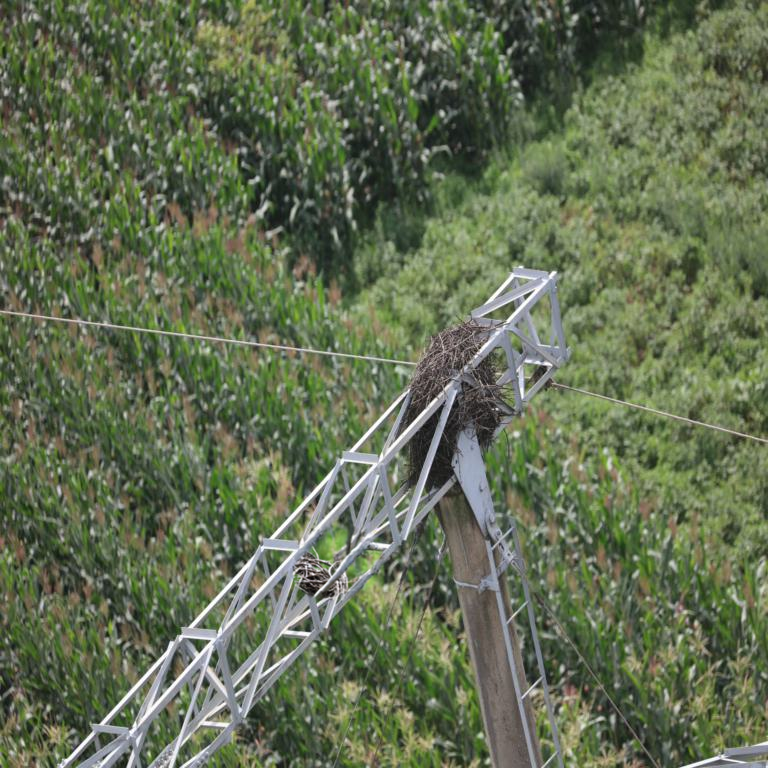nest: (407, 328, 511, 491), (300, 553, 345, 597)
